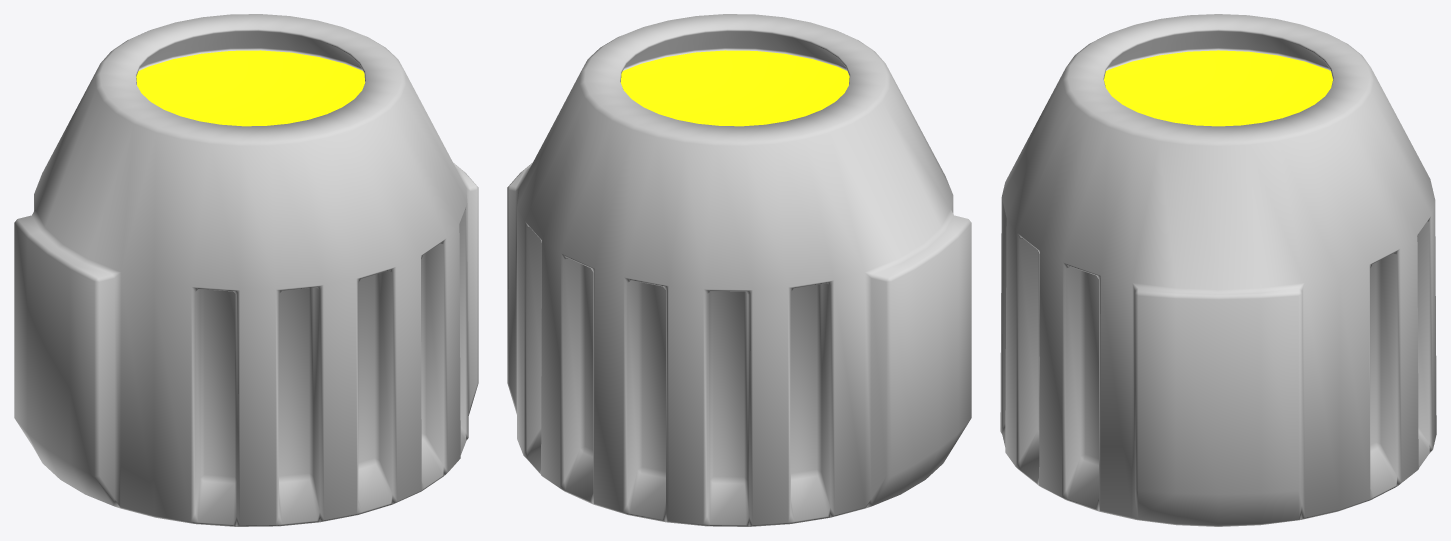
Rendered from state 1.fbx.
The picture shows the model from 3 angles, left to right: view 1: azimuth 30°, elevation 25°; view 2: azimuth 150°, elevation 25°; view 3: azimuth 270°, elevation 25°; orthographic projection.
Visible parts, largest first — view 1: Cylinder; view 2: Cylinder; view 3: Cylinder.
Part boxes in pixels (bbox=[...]): Cylinder: bbox=[14, 14, 478, 526]; Cylinder: bbox=[507, 14, 971, 526]; Cylinder: bbox=[1000, 14, 1436, 526].
Bounding box in the file's own units: 211 × 181 × 200.
